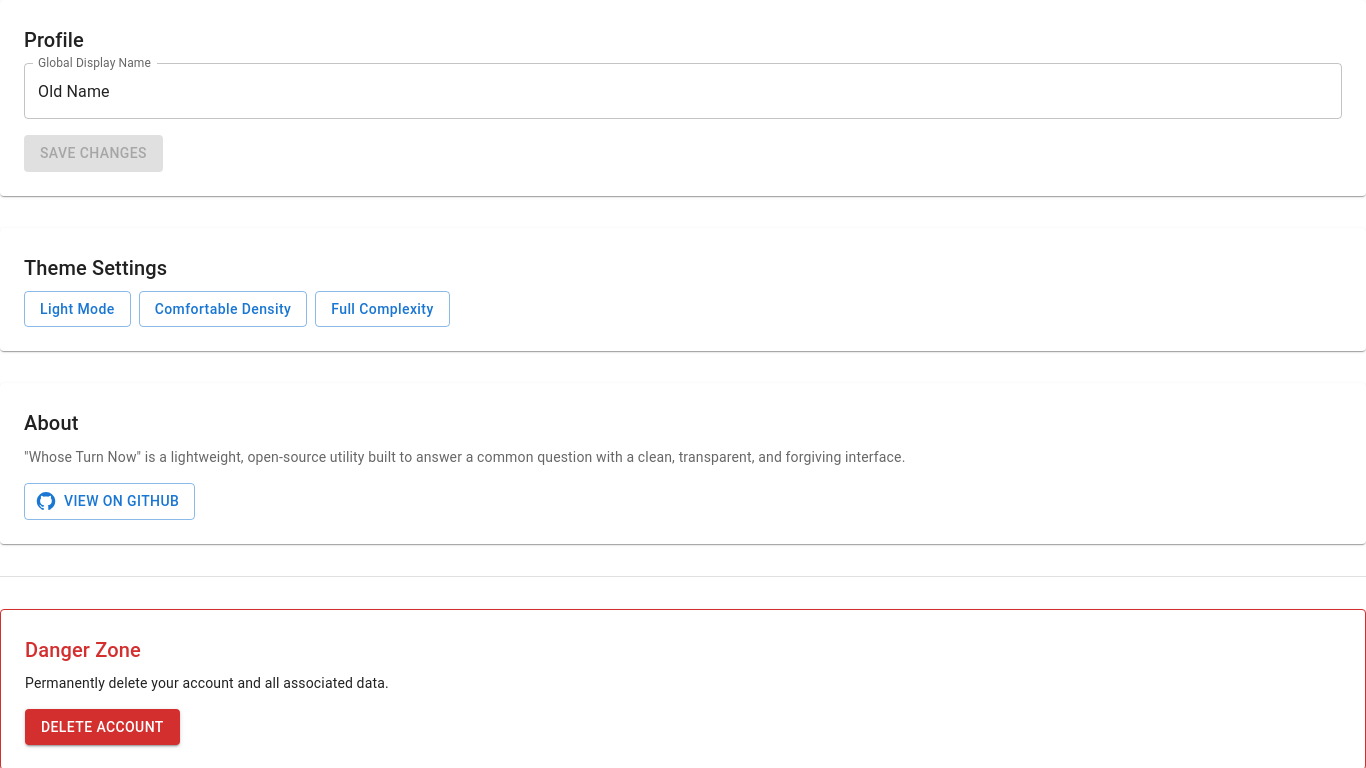
Test: SettingsScreen › should display an error message if account deletion fails at the repository level
Click the button "Delete Account".
click(102, 727)  # box [25, 708, 180, 745]
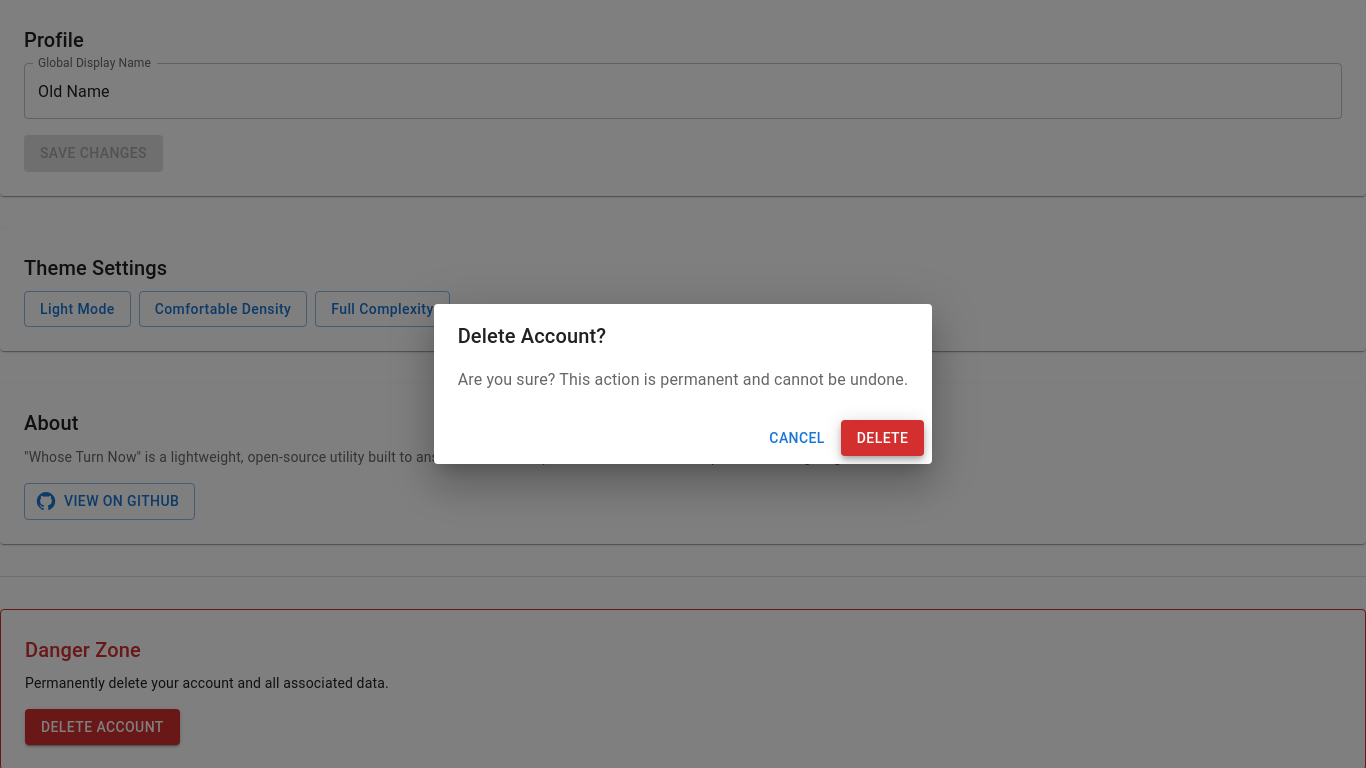
Click the button "Delete".
click(883, 438)  # box [841, 420, 924, 456]
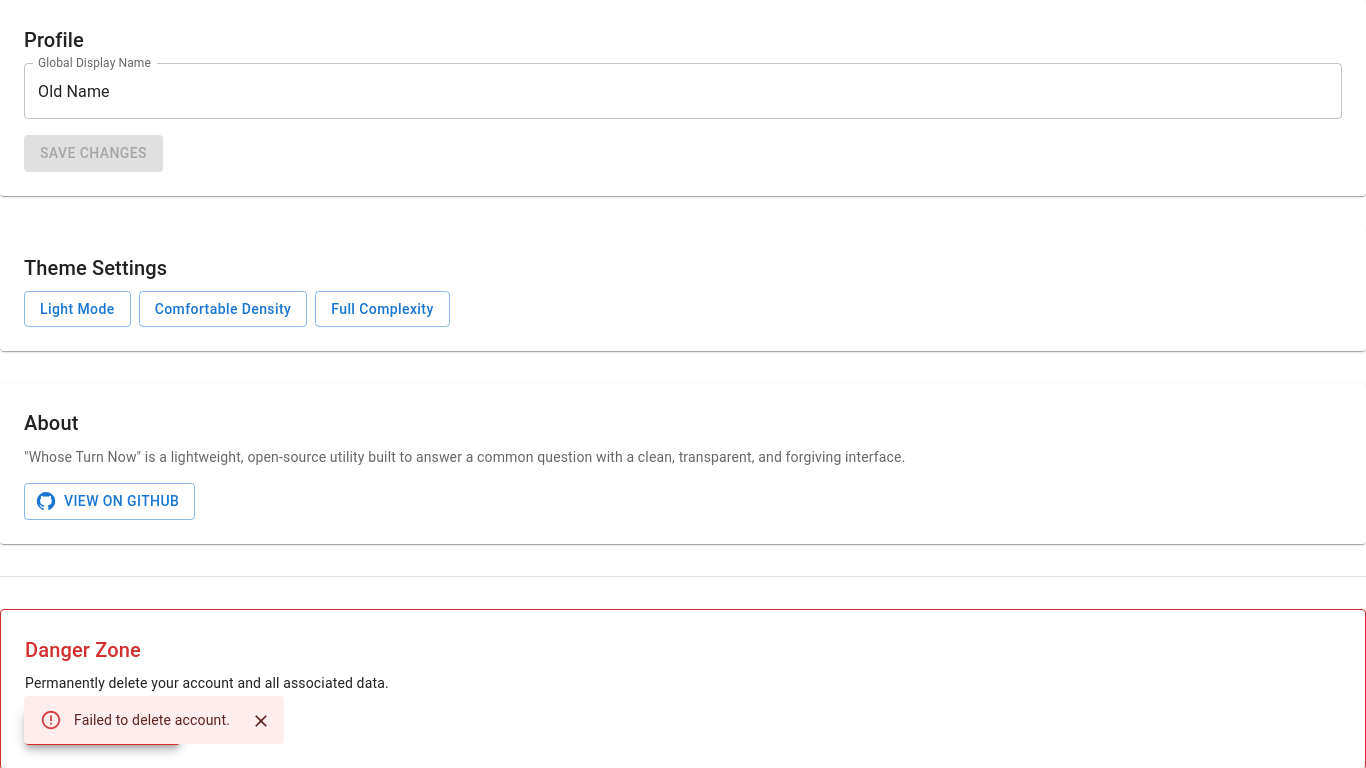
Check: the text "Failed to delete account." is shown, box [74, 712, 230, 728]
